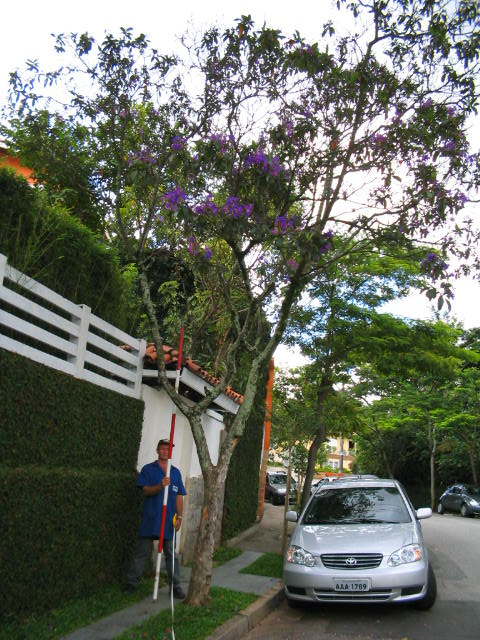crown: (13, 12, 476, 339)
stem: (178, 474, 232, 610)
stick: (140, 327, 184, 604)
tree: (10, 11, 477, 612)
